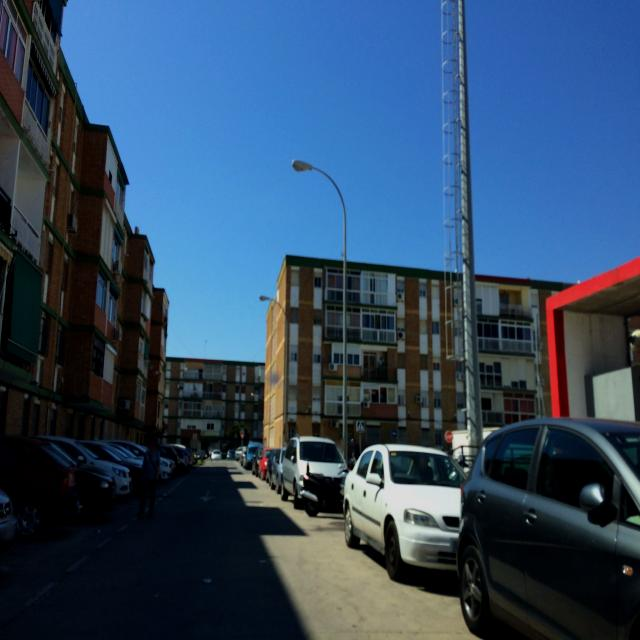bike: (302, 471, 351, 516)
car: (456, 415, 640, 640), (342, 443, 470, 582), (14, 435, 114, 521), (0, 432, 80, 539), (32, 434, 124, 504), (278, 436, 349, 510), (79, 439, 143, 493), (111, 440, 171, 486), (0, 448, 18, 574), (158, 444, 182, 476), (268, 448, 284, 490), (166, 444, 189, 469), (244, 441, 263, 469), (234, 447, 245, 461), (211, 450, 222, 460), (226, 449, 236, 459)
